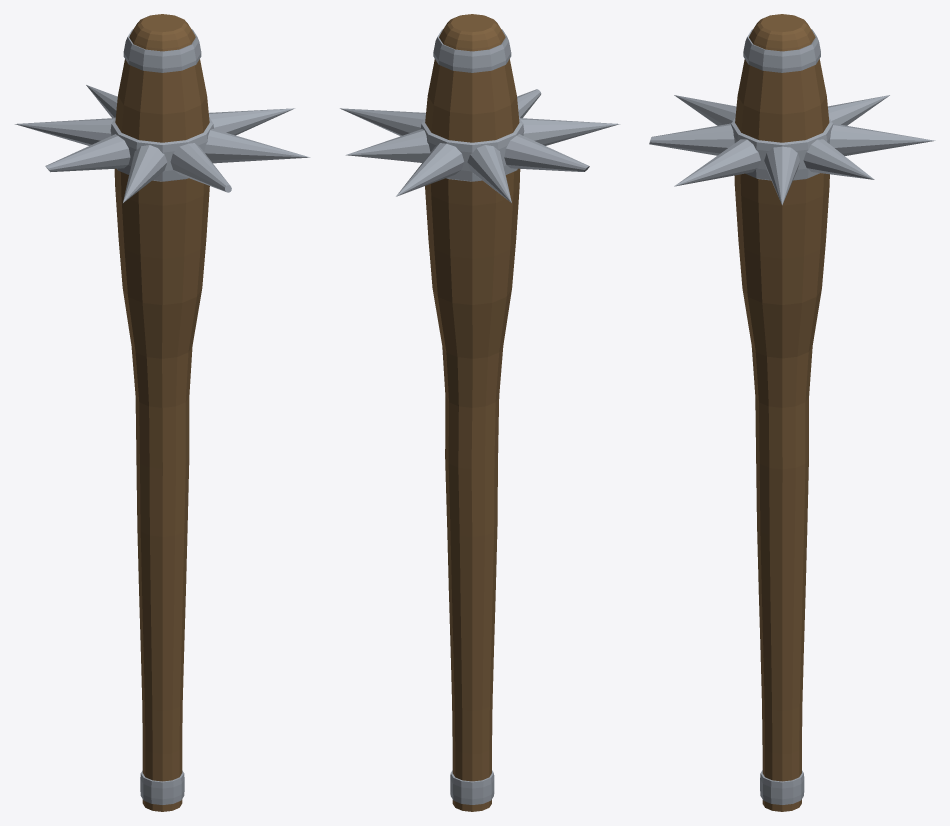
File: Spiked Club.fbx
The picture shows the model from 3 angles, left to right: view 1: azimuth 30°, elevation 25°; view 2: azimuth 150°, elevation 25°; view 3: azimuth 270°, elevation 25°; orthographic projection.
Parts seen in each view (by area): view 1: Spiked club 0.001; view 2: Spiked club 0.001; view 3: Spiked club 0.001.
Boxes of the visible parts, x1,y1,x2,y2 form: Spiked club 0.001: [15, 14, 310, 811]; Spiked club 0.001: [340, 14, 619, 811]; Spiked club 0.001: [649, 14, 935, 811].
Bounding box in the file's own units: 0.3374 × 1.01 × 0.3356.
